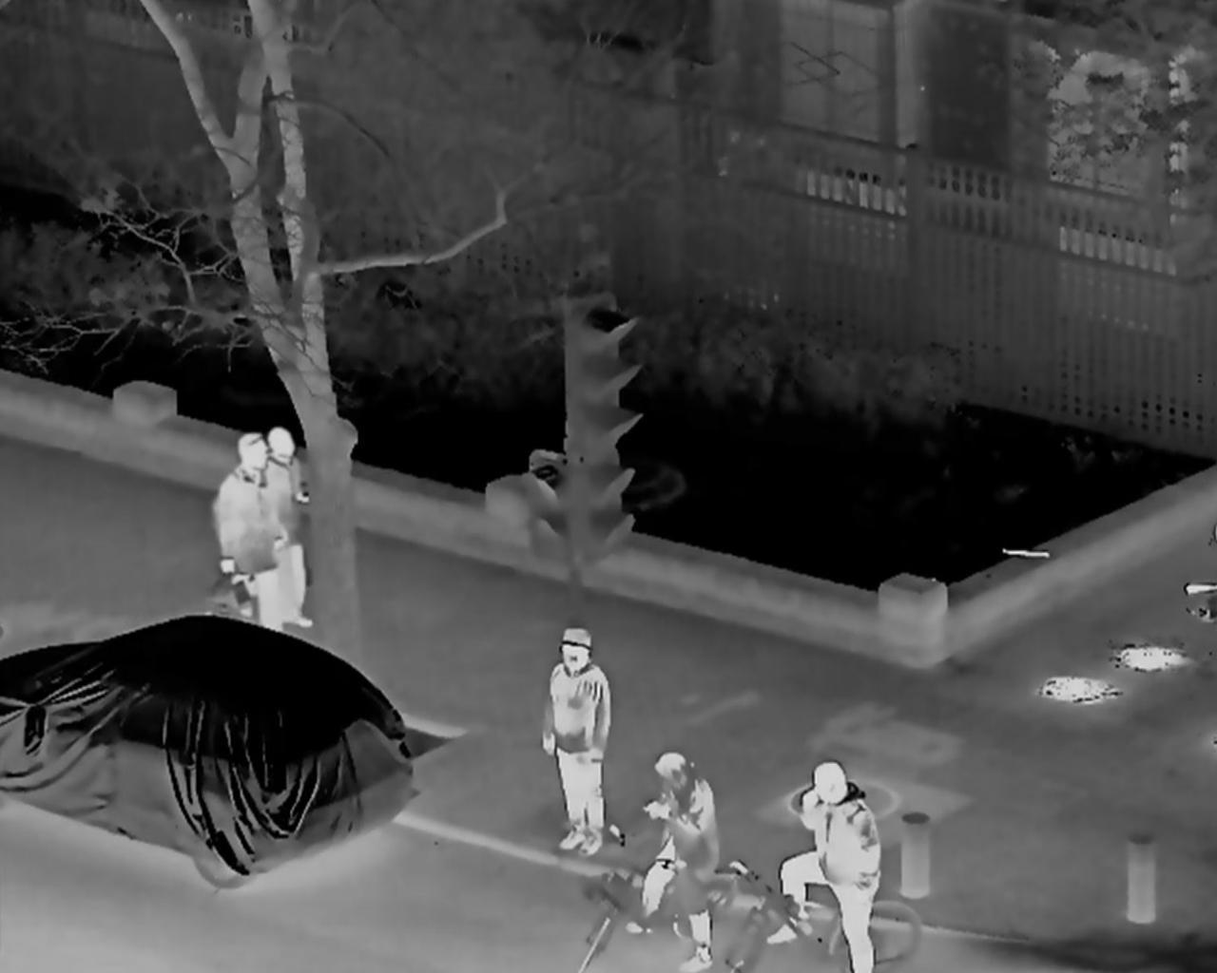person: (774, 761, 881, 973), (624, 755, 725, 966), (545, 626, 609, 855), (211, 435, 280, 624), (256, 429, 319, 629)
